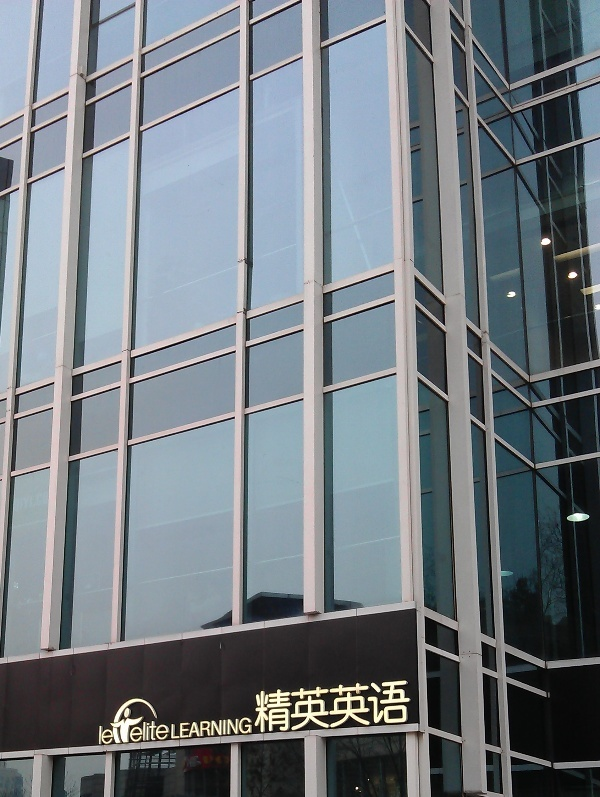text: (257, 677, 272, 734), (273, 677, 288, 734), (289, 677, 304, 734), (305, 677, 320, 734), (321, 677, 336, 734), (337, 677, 352, 734), (353, 677, 368, 734), (369, 677, 384, 734), (385, 677, 400, 734), (401, 677, 412, 734), (145, 720, 160, 744), (130, 720, 144, 744), (177, 718, 192, 740), (193, 718, 208, 740), (209, 718, 224, 740), (225, 718, 240, 740), (241, 718, 254, 740), (98, 725, 112, 745), (161, 720, 170, 744), (253, 677, 256, 734), (171, 718, 176, 740), (113, 725, 114, 745)
